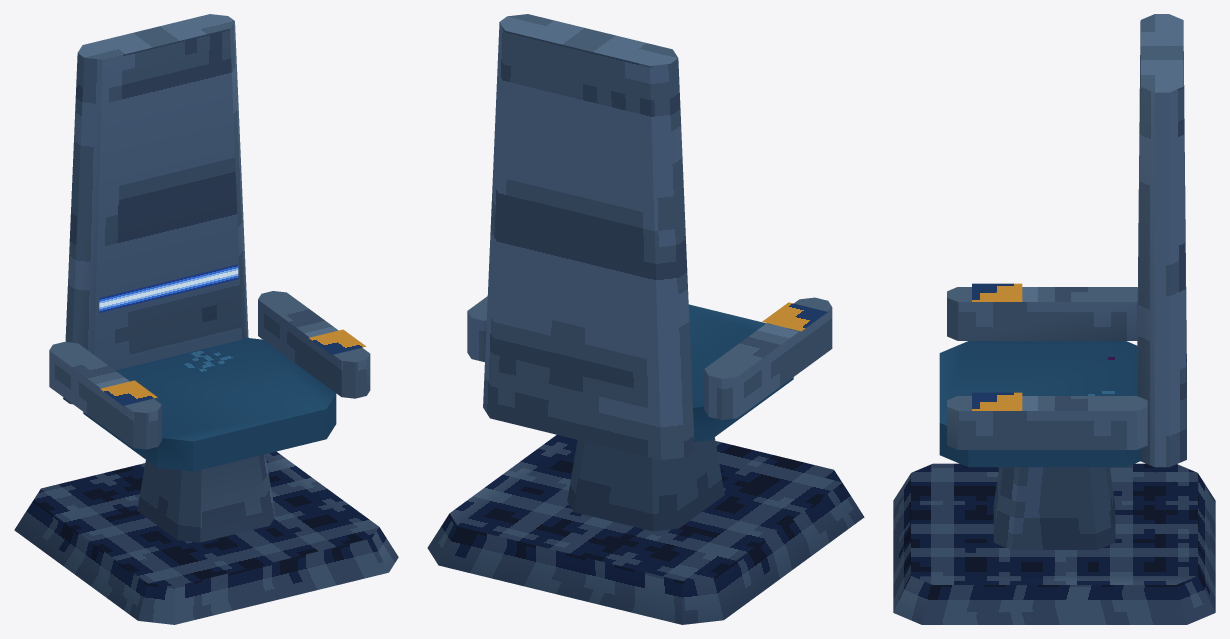
The model's file is cyroom.chair__captive.glb.
The picture shows the model from 3 angles, left to right: view 1: azimuth 30°, elevation 25°; view 2: azimuth 150°, elevation 25°; view 3: azimuth 270°, elevation 25°; orthographic projection. The views are drawn at different scales.
Parts seen in each view (by area): view 1: kit_body, kit_card_details; view 2: kit_body, kit_card_details; view 3: kit_body, kit_card_details.
Boxes of the visible parts, <box> form: kit_body: <box>14,14,398,624</box>; kit_card_details: <box>99,264,366,405</box>; kit_body: <box>427,14,864,624</box>; kit_card_details: <box>762,302,827,331</box>; kit_body: <box>893,14,1215,624</box>; kit_card_details: <box>972,283,1022,410</box>.
Bounding box in the file's own units: 0.9 × 1.55 × 0.9.
Materials: 6 (6 with a texture image).
